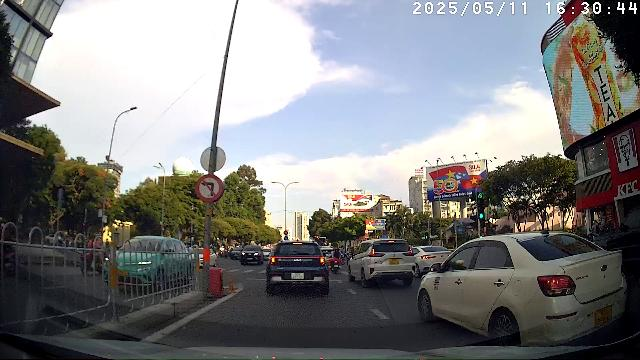123a-cam-re-trai: (195, 174, 222, 202)
